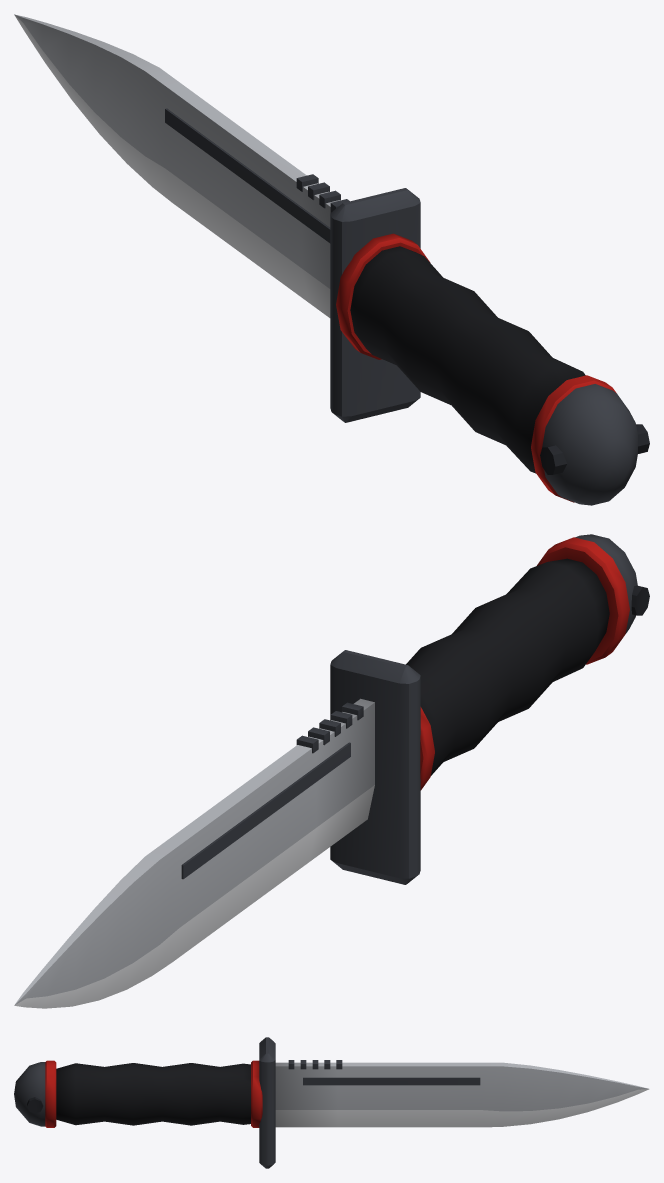
Rendered from knife.glb.
3 views of the same model, one above another, from view 1: azimuth 30°, elevation 25°; view 2: azimuth 150°, elevation 25°; view 3: azimuth 270°, elevation 25° (orthographic). The views are drawn at different scales.
Parts seen in each view (by area): view 1: Knife; view 2: Knife; view 3: Knife.
Boxes of the visible parts, <box> form: Knife: <box>14,14,649,505</box>; Knife: <box>14,534,649,1008</box>; Knife: <box>14,1037,649,1168</box>.
Size of the model in its own units: 0.03 by 0.066 by 0.33.
